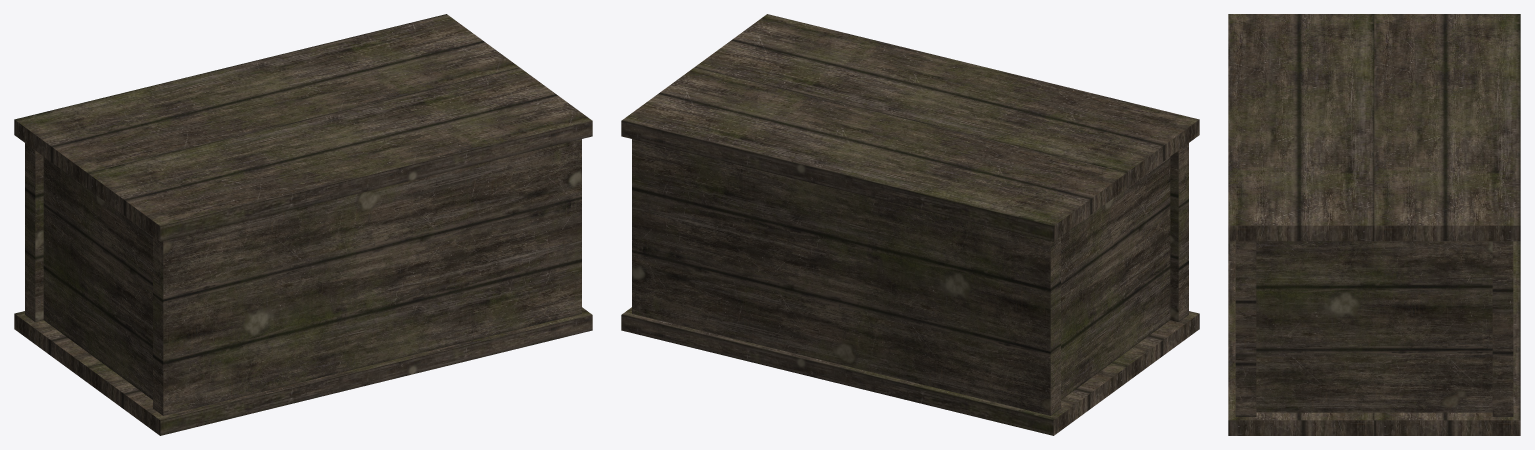
The model's file is Crate03.fbx.
3 views of the same model, side by side, from view 1: azimuth 30°, elevation 25°; view 2: azimuth 150°, elevation 25°; view 3: azimuth 270°, elevation 25° (orthographic).
Parts seen in each view (by area): view 1: Crate03; view 2: Crate03; view 3: Crate03.
Boxes of the visible parts, x1,y1,x2,y2 form: Crate03: (14, 14, 592, 435); Crate03: (621, 14, 1199, 435); Crate03: (1228, 14, 1520, 435).
Size of the model in its own units: 133 by 61.71 by 77.8.
